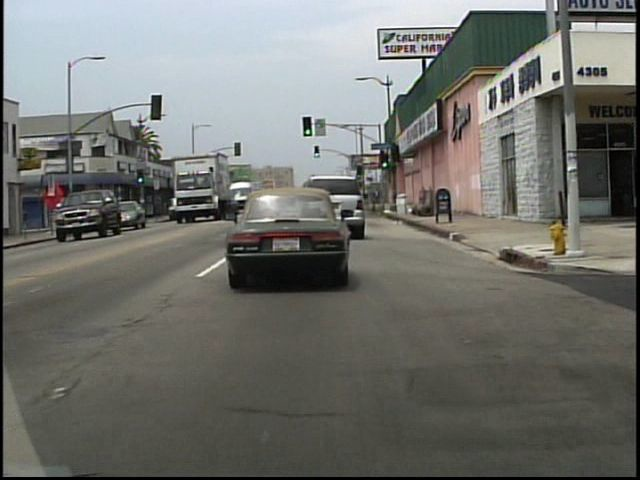person: (75, 204, 86, 228)
